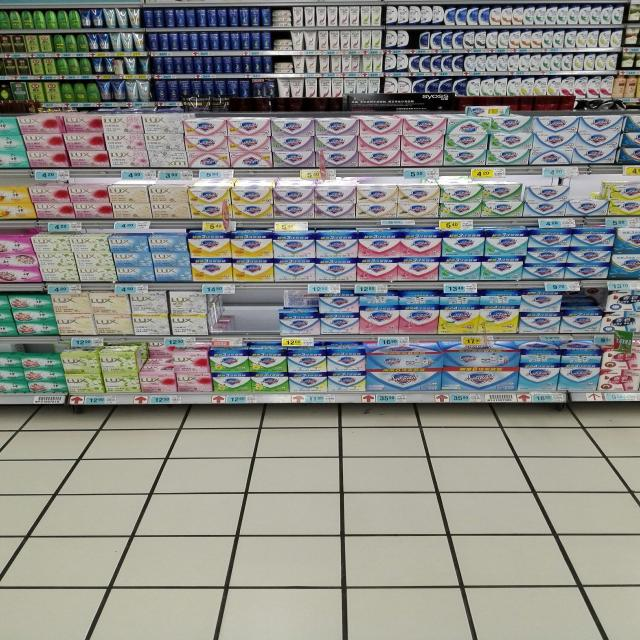empty: (230, 290, 283, 334)
